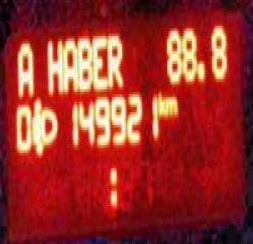-: (197, 56, 207, 81)
0: (15, 102, 30, 153)
1: (70, 97, 78, 148), (150, 89, 158, 140)
2: (127, 89, 142, 145)
4: (78, 96, 93, 145)
8: (210, 20, 228, 79), (181, 26, 197, 82), (165, 25, 180, 84)
9: (93, 94, 109, 145), (109, 92, 124, 143)
X: (14, 38, 33, 97), (46, 35, 62, 94), (62, 33, 77, 91), (108, 31, 123, 87), (92, 33, 107, 89), (77, 33, 91, 89), (107, 162, 116, 211), (164, 94, 178, 114), (157, 89, 164, 114)
